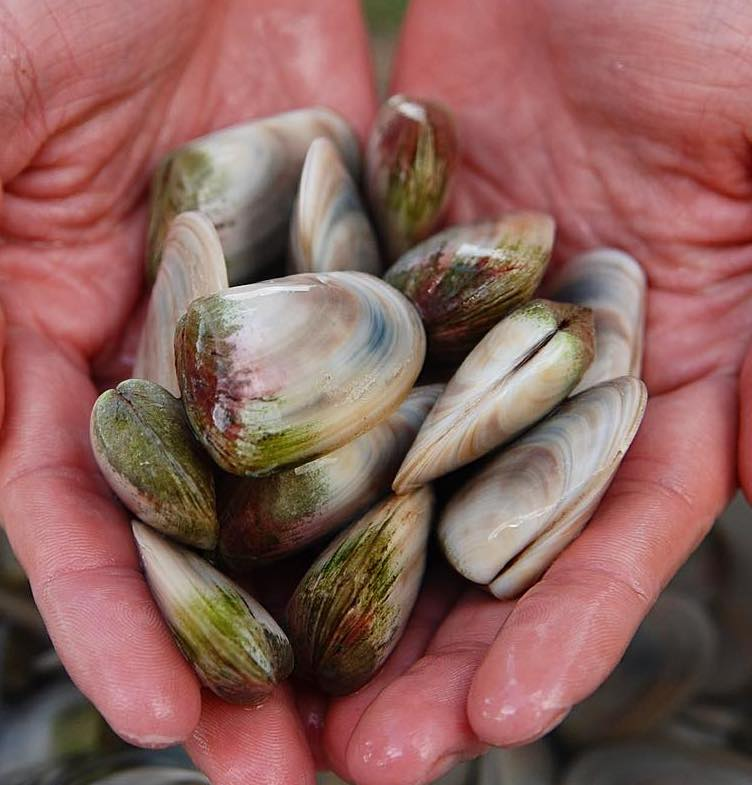tuatua: (164, 266, 434, 476), (441, 371, 654, 610), (395, 290, 597, 496), (290, 478, 437, 702), (127, 519, 297, 705), (88, 374, 223, 552), (384, 208, 570, 330), (287, 139, 386, 295), (367, 94, 452, 256)
